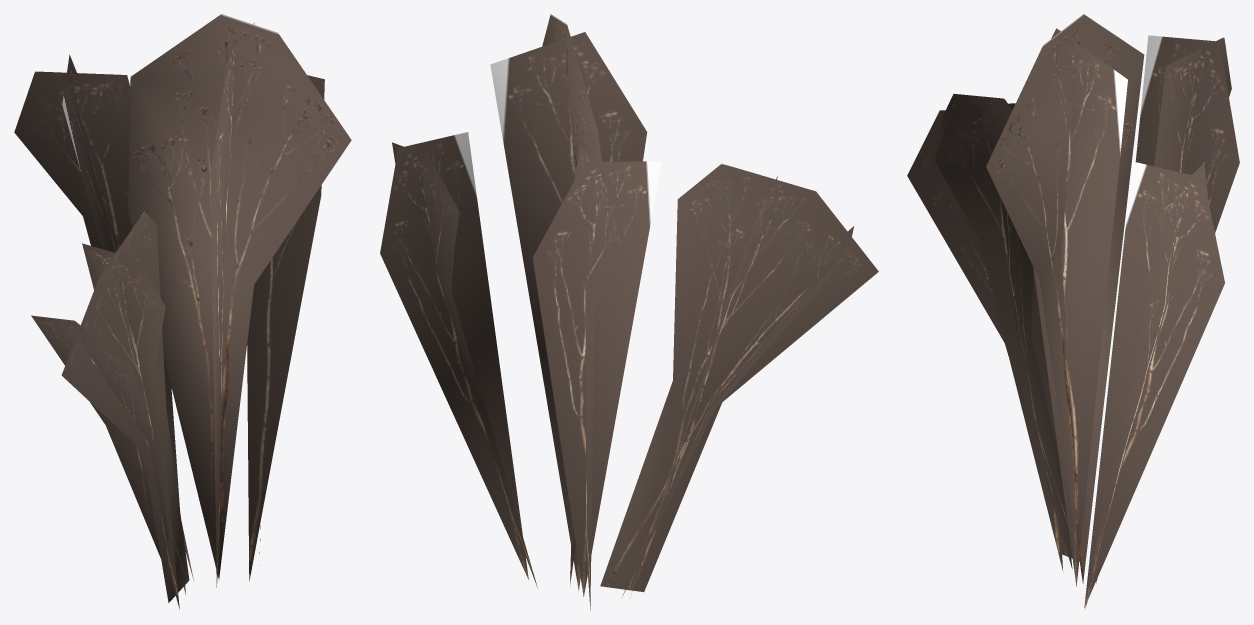
Rendered from Grass_B_1.fbx.
3 renders of one model, left to right at view 1: azimuth 30°, elevation 25°; view 2: azimuth 150°, elevation 25°; view 3: azimuth 270°, elevation 25°, orthographic.
Visible parts, largest first — view 1: Grass_B_1; view 2: Grass_B_1; view 3: Grass_B_1.
Part boxes in pixels (x1=…): Grass_B_1: x1=14, y1=14, x2=351, y2=608; Grass_B_1: x1=380, y1=14, x2=878, y2=610; Grass_B_1: x1=907, y1=14, x2=1239, y2=609.
Size of the model in its own units: 0.7084 by 1.04 by 0.5356.
